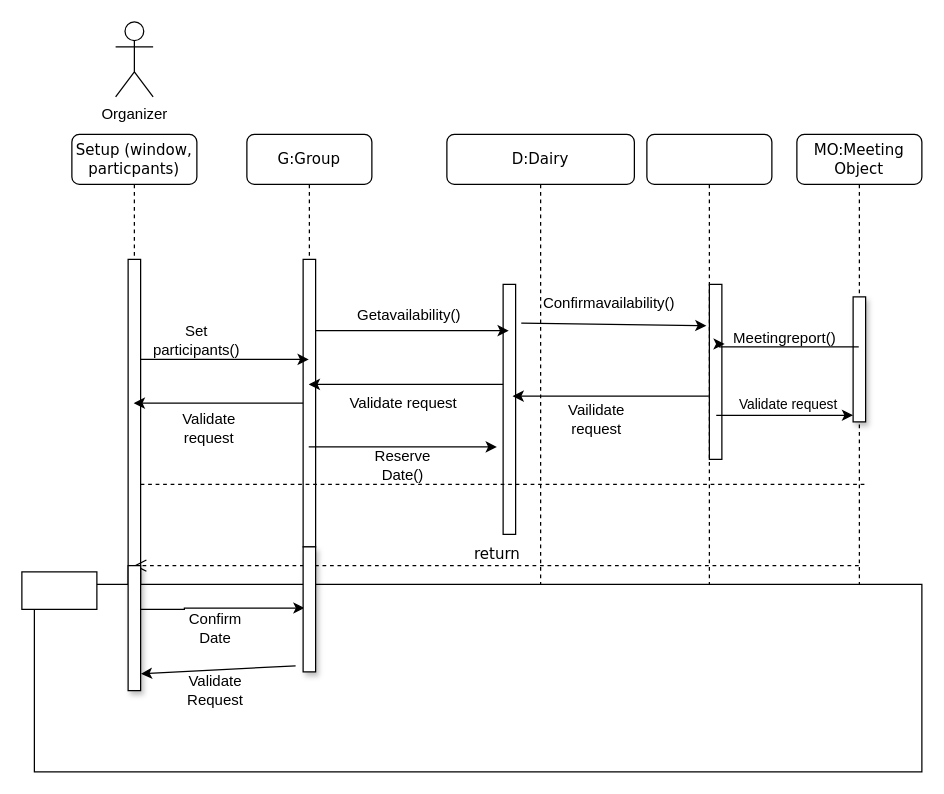
Image size: 944x794. Some labels were removed from this diagram. The centre of each missing label's shape, as x and y in pixels:
ALT: (59,590)
d2:Diary 2: (709,365)
